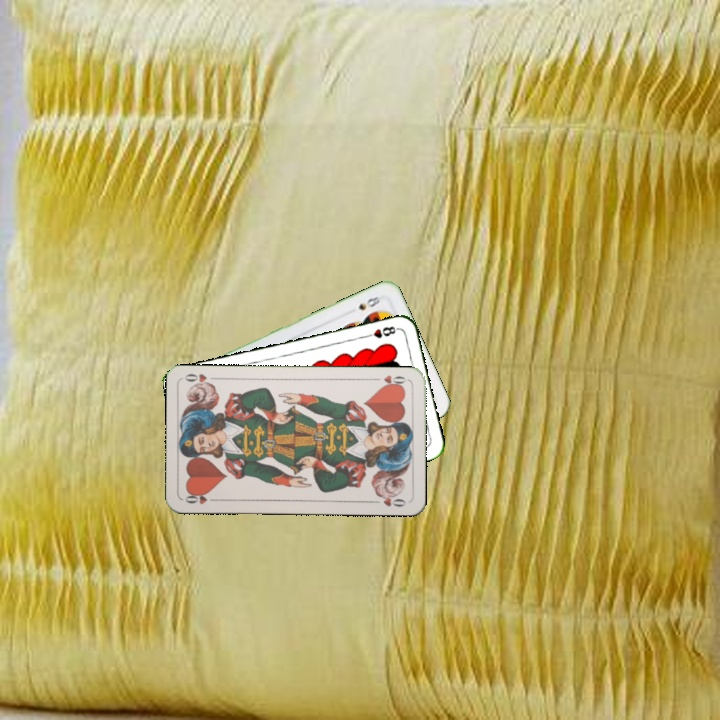H8: (361, 322, 401, 341)
HO: (370, 371, 410, 390), (181, 489, 221, 506)
S8: (354, 291, 385, 313)
